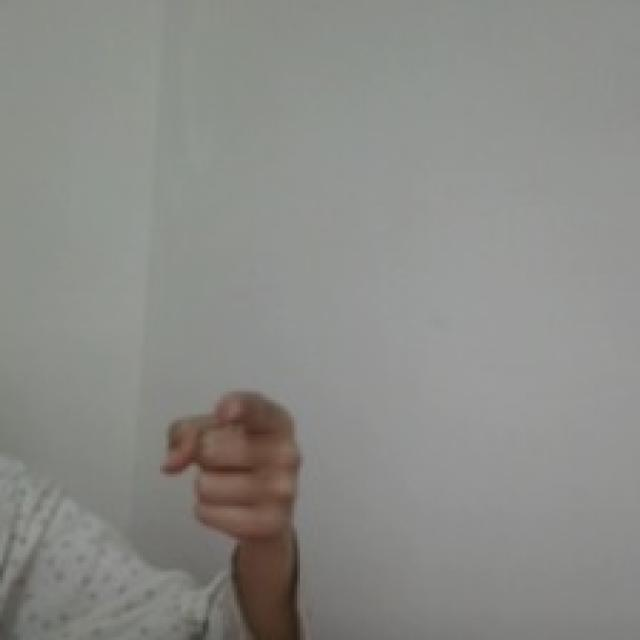you: (156, 382, 310, 548)
